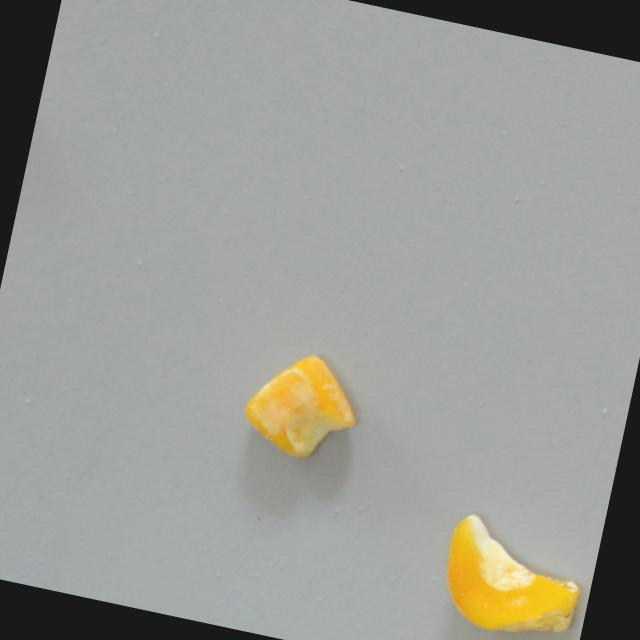punto_negro: (428, 504, 599, 640), (232, 340, 370, 469)
